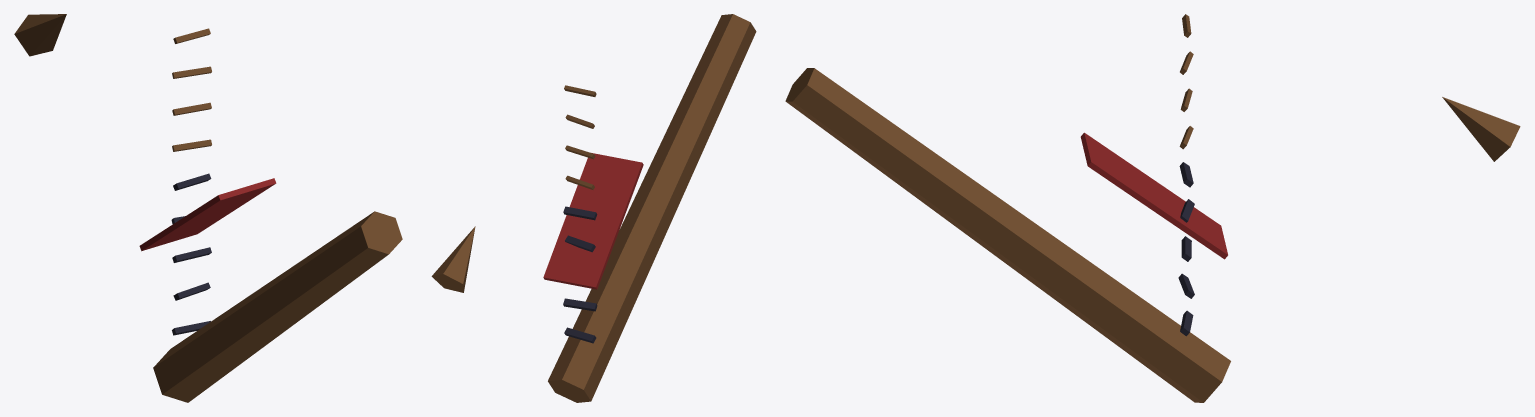
The model's file is sanseong_flag_shard.glb.
3 renders of one model, left to right at view 1: azimuth 30°, elevation 25°; view 2: azimuth 150°, elevation 25°; view 3: azimuth 270°, elevation 25°, orthographic. The views are drawn at different scales.
Parts seen in each view (by area): view 1: sanseong_flag_shard; view 2: sanseong_flag_shard; view 3: sanseong_flag_shard.
Boxes of the visible parts, <box> form: sanseong_flag_shard: <box>14,14,402,402</box>; sanseong_flag_shard: <box>431,14,756,402</box>; sanseong_flag_shard: <box>785,14,1520,402</box>.
Size of the model in its own units: 0.1435 by 0.7156 by 1.25.
